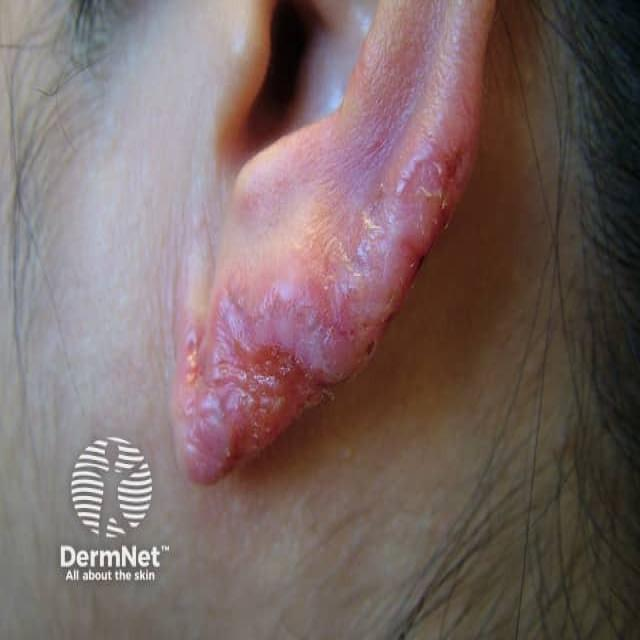lupus-detected: (178, 125, 492, 488)
